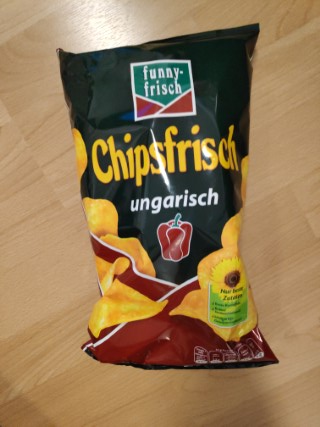chipsfrisch: (55, 21, 280, 369)
